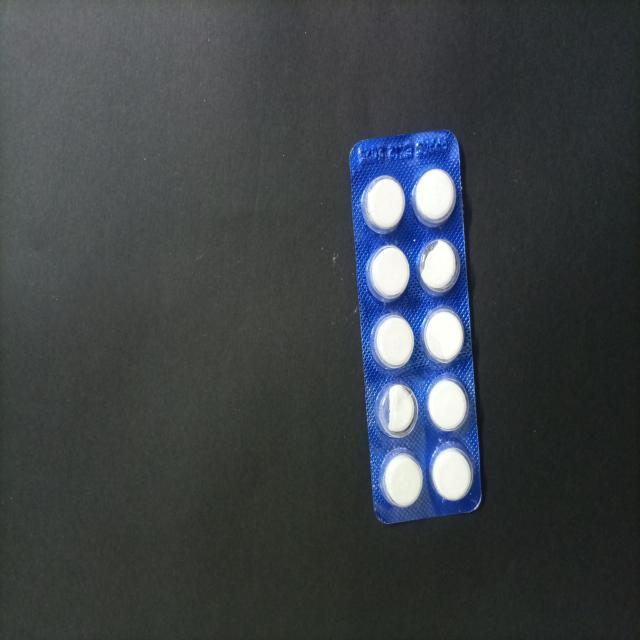defect: (415, 236, 463, 301), (373, 379, 421, 441)
